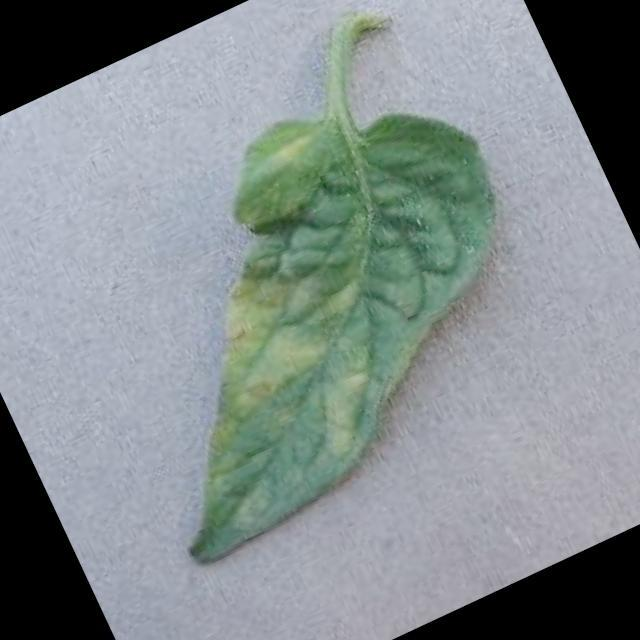Tomato mold leaf: (44, 54, 594, 578)
